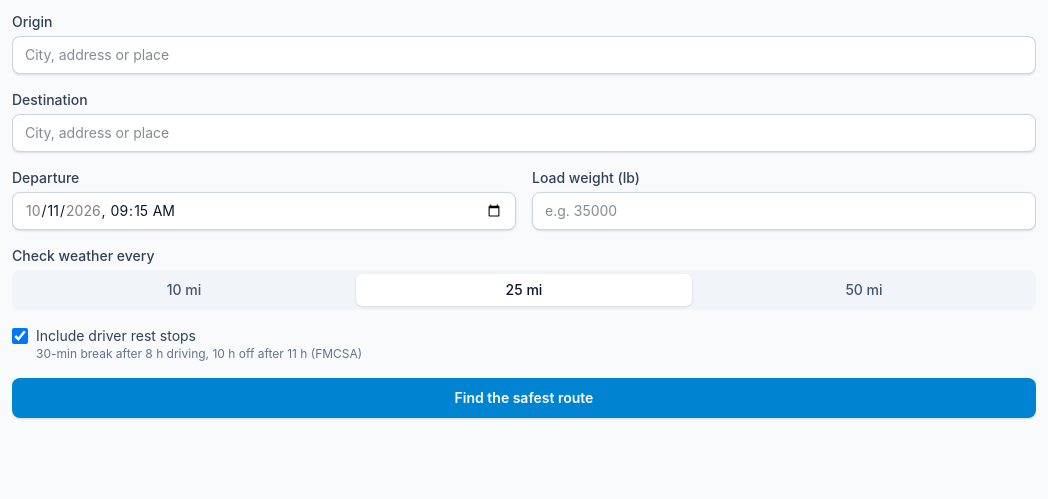
it: TripForm › shows every validation error instead of submitting an empty form
The width and height of the screenshot is (1048, 499).
Click the button "Find the safest route" at (524, 398), box [12, 378, 1036, 418]
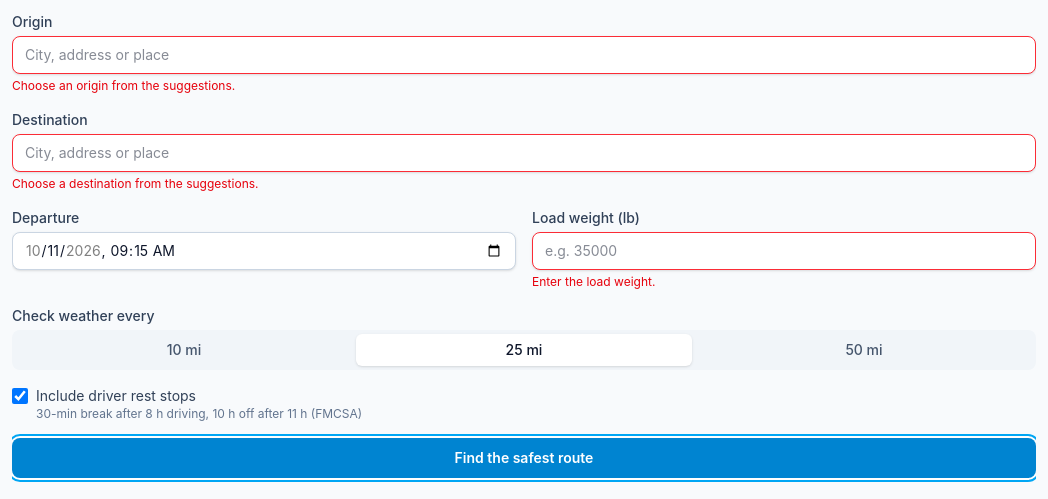
Now the text "Choose an origin from the suggestions." is shown, box [12, 78, 235, 93]
Now the text "Choose a destination from the suggestions." is shown, box [12, 176, 258, 191]
Now the text "Enter the load weight." is shown, box [532, 274, 655, 289]
